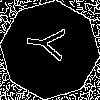Y: (25, 25, 74, 63)
